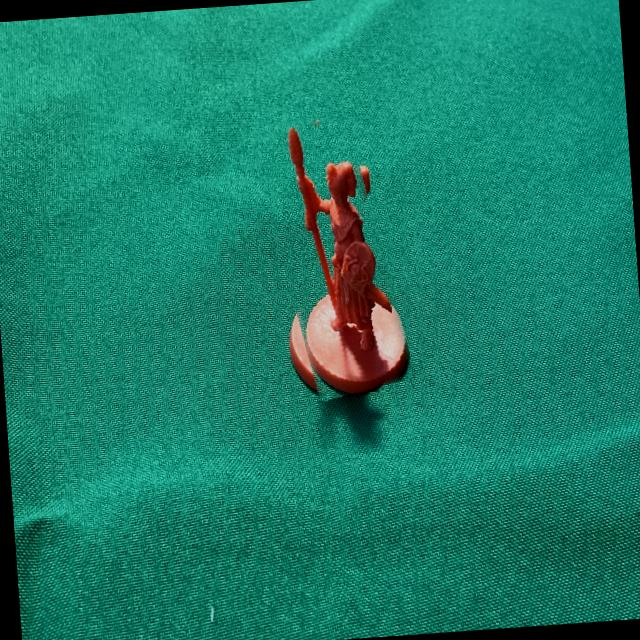amon_follower: (288, 126, 408, 393)
